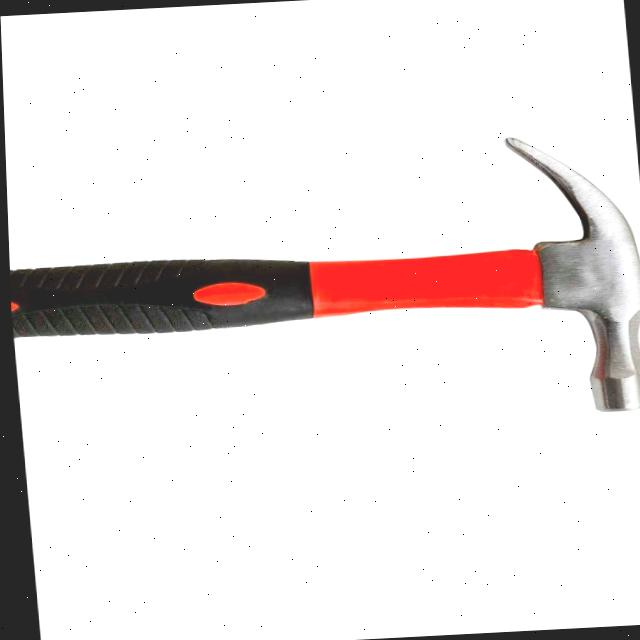hammer: (4, 122, 640, 455)
